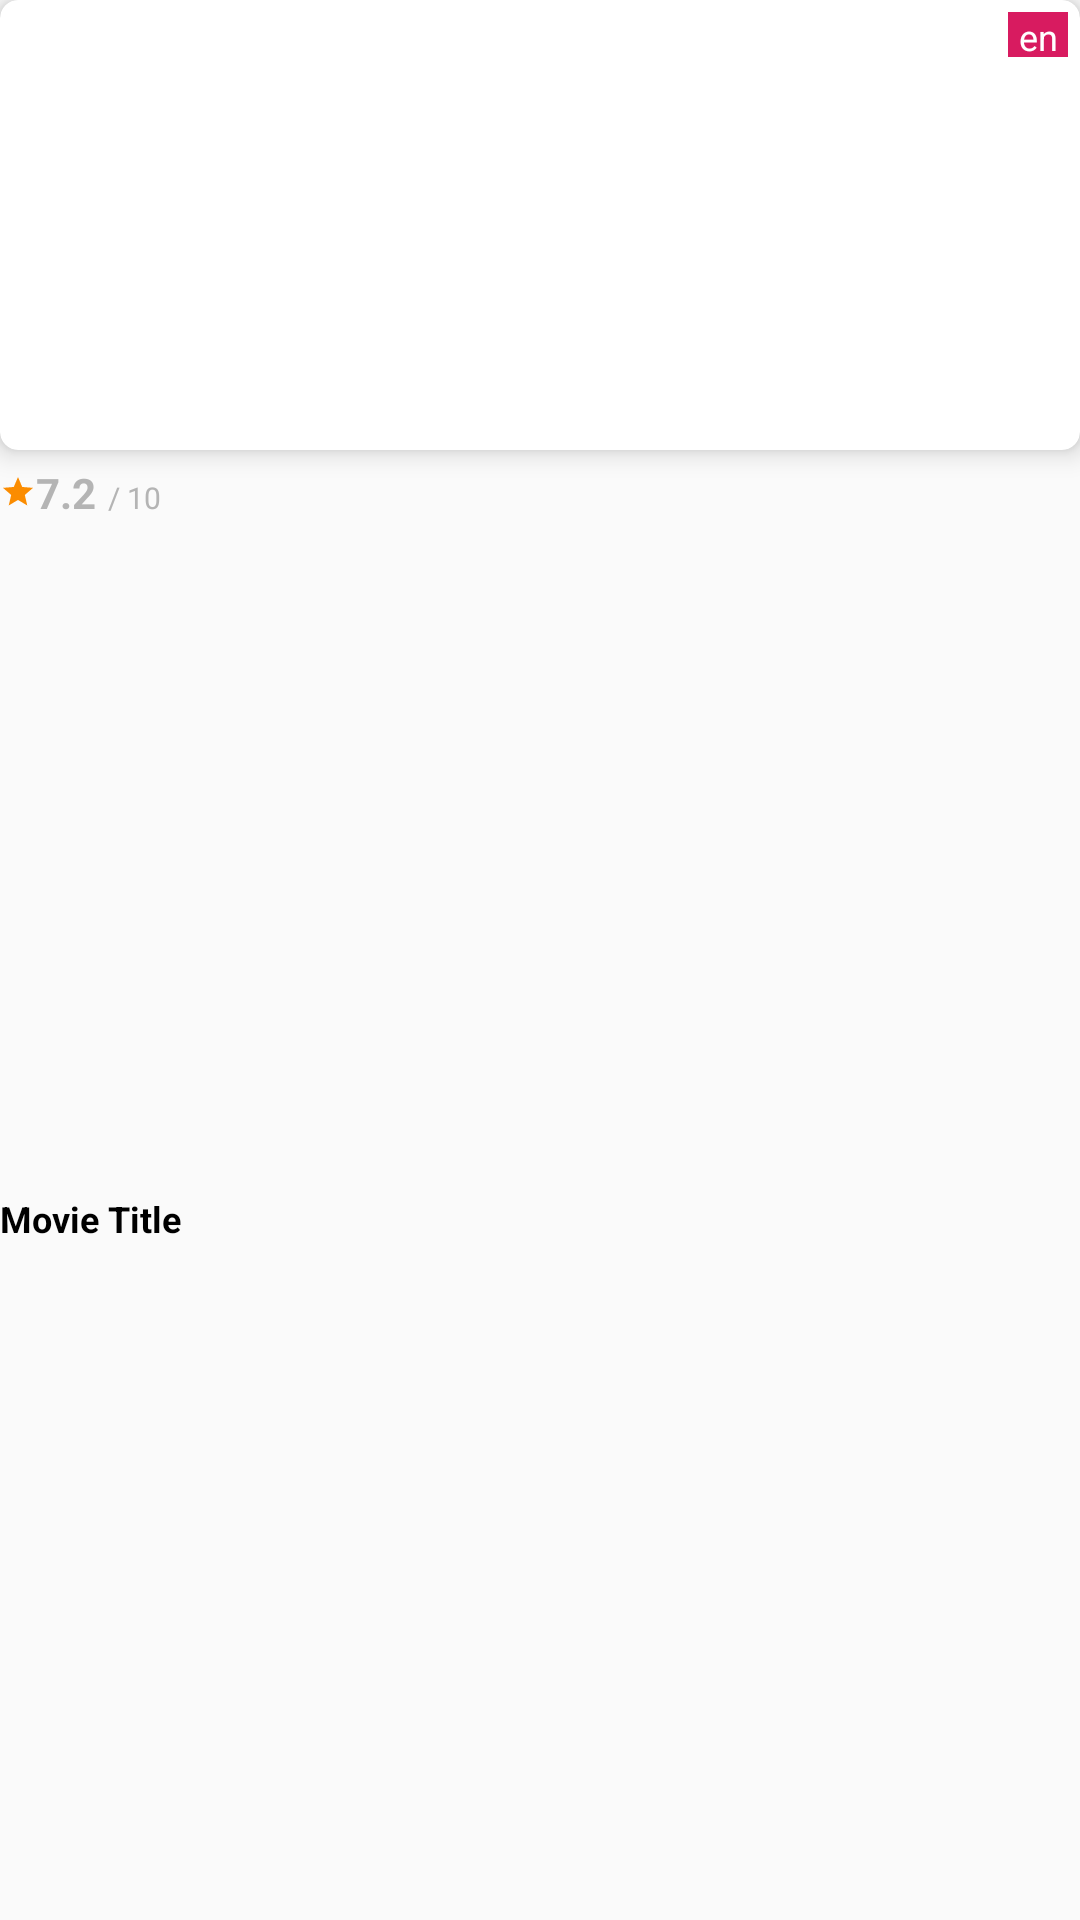

Icon click points for this 1080px x 1920px phone screenshot, format (x,y):
star: (18,491)
